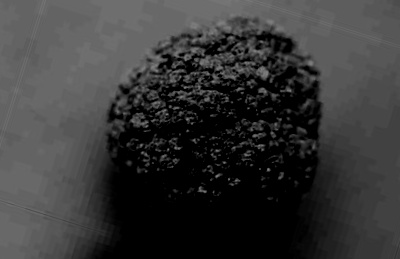halobolite: (93, 17, 336, 217)
